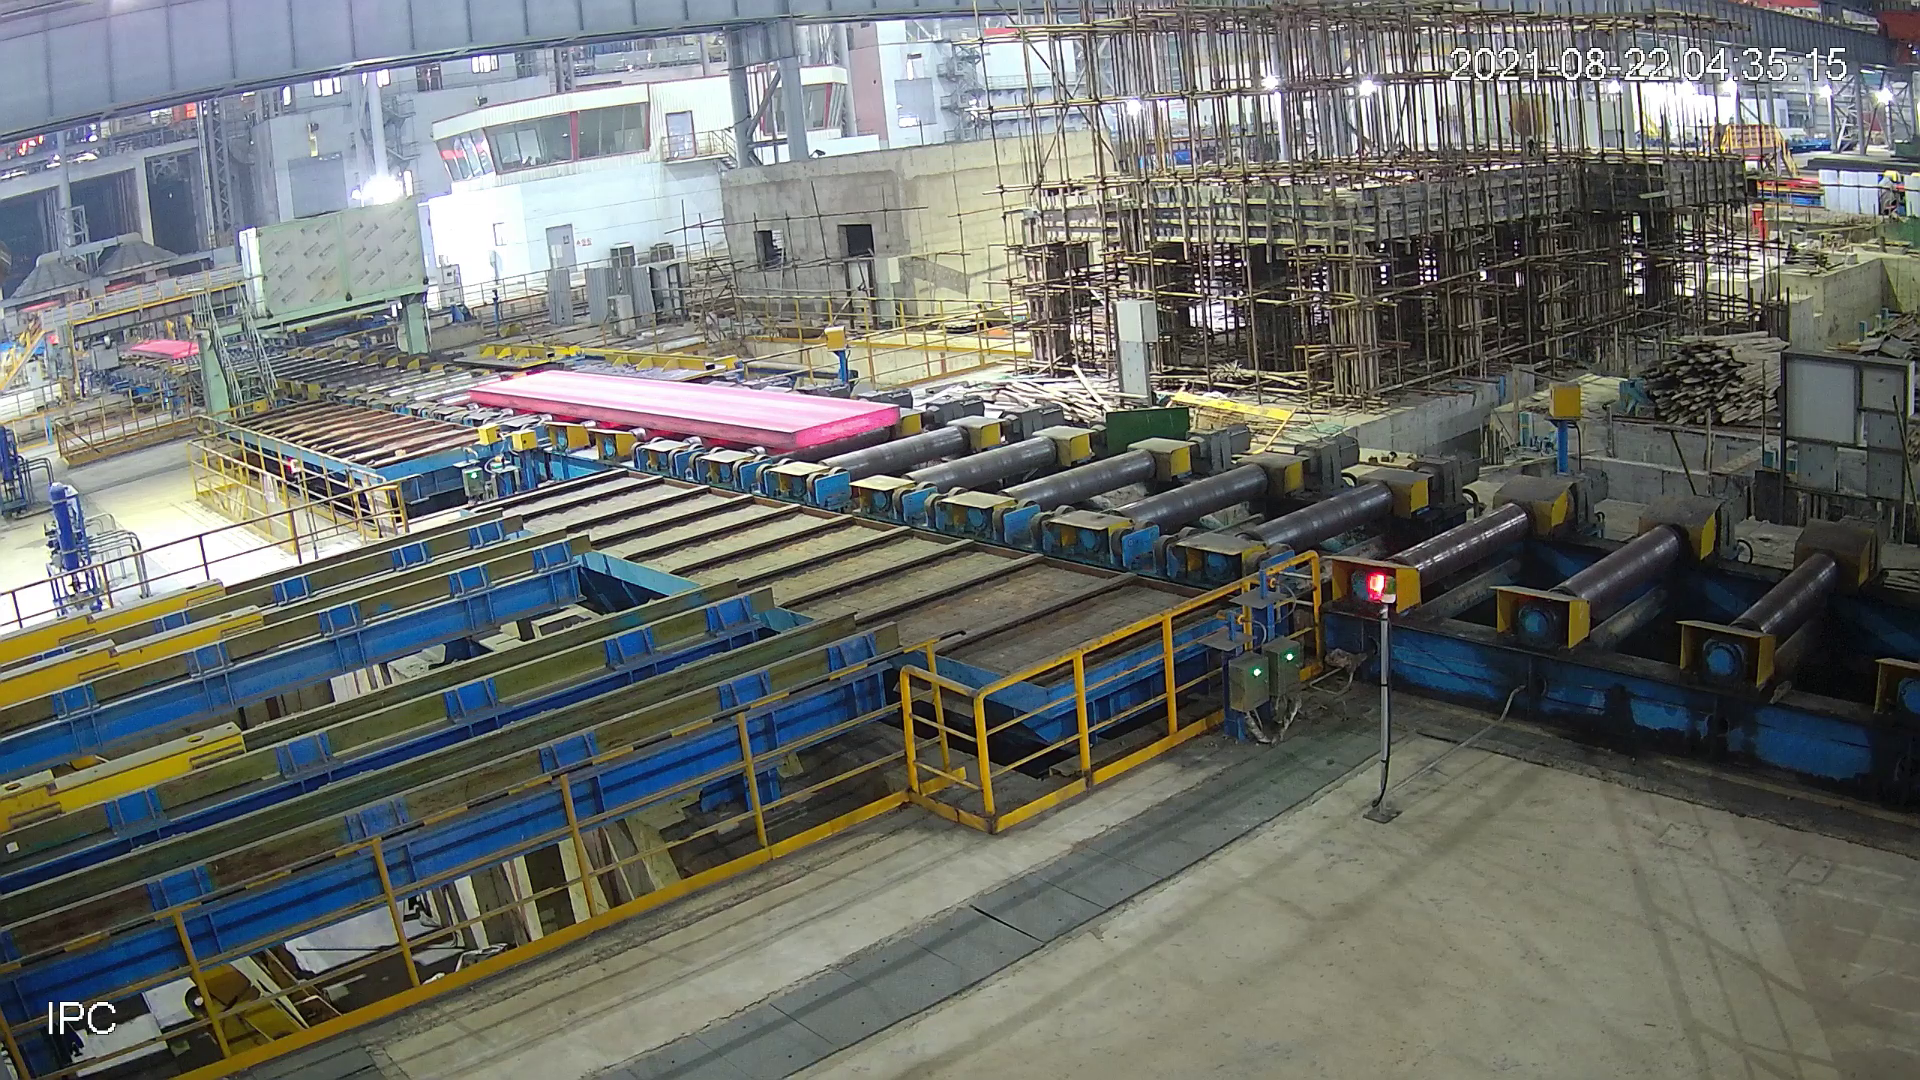slab: (465, 367, 901, 456), (131, 338, 215, 363)
